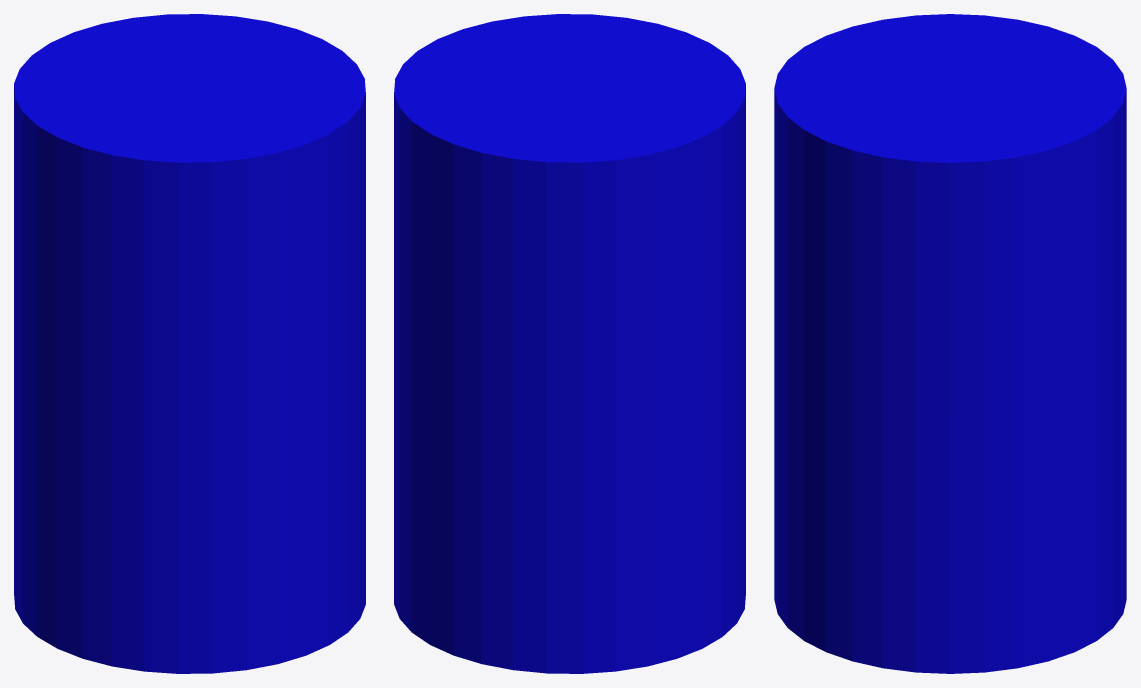
The model's file is Barrel.fbx.
The picture shows the model from 3 angles, left to right: view 1: azimuth 30°, elevation 25°; view 2: azimuth 150°, elevation 25°; view 3: azimuth 270°, elevation 25°; orthographic projection.
Visible parts, largest first — view 1: Cylinder; view 2: Cylinder; view 3: Cylinder.
Part boxes in pixels (x1=…): Cylinder: x1=14, y1=14, x2=365, y2=673; Cylinder: x1=394, y1=14, x2=745, y2=673; Cylinder: x1=774, y1=14, x2=1126, y2=673.
Size of the model in its own units: 100 by 160 by 100.
